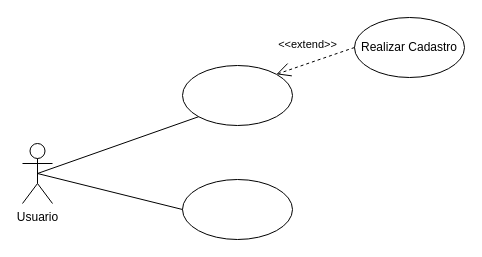
Image size: 482x257. Some labels were removed from this diagram. Each missing label, with the centre of its shape:
Entrar Sistema (Logar): the point at 237,95
Gerenciar Produto: the point at 237,209
